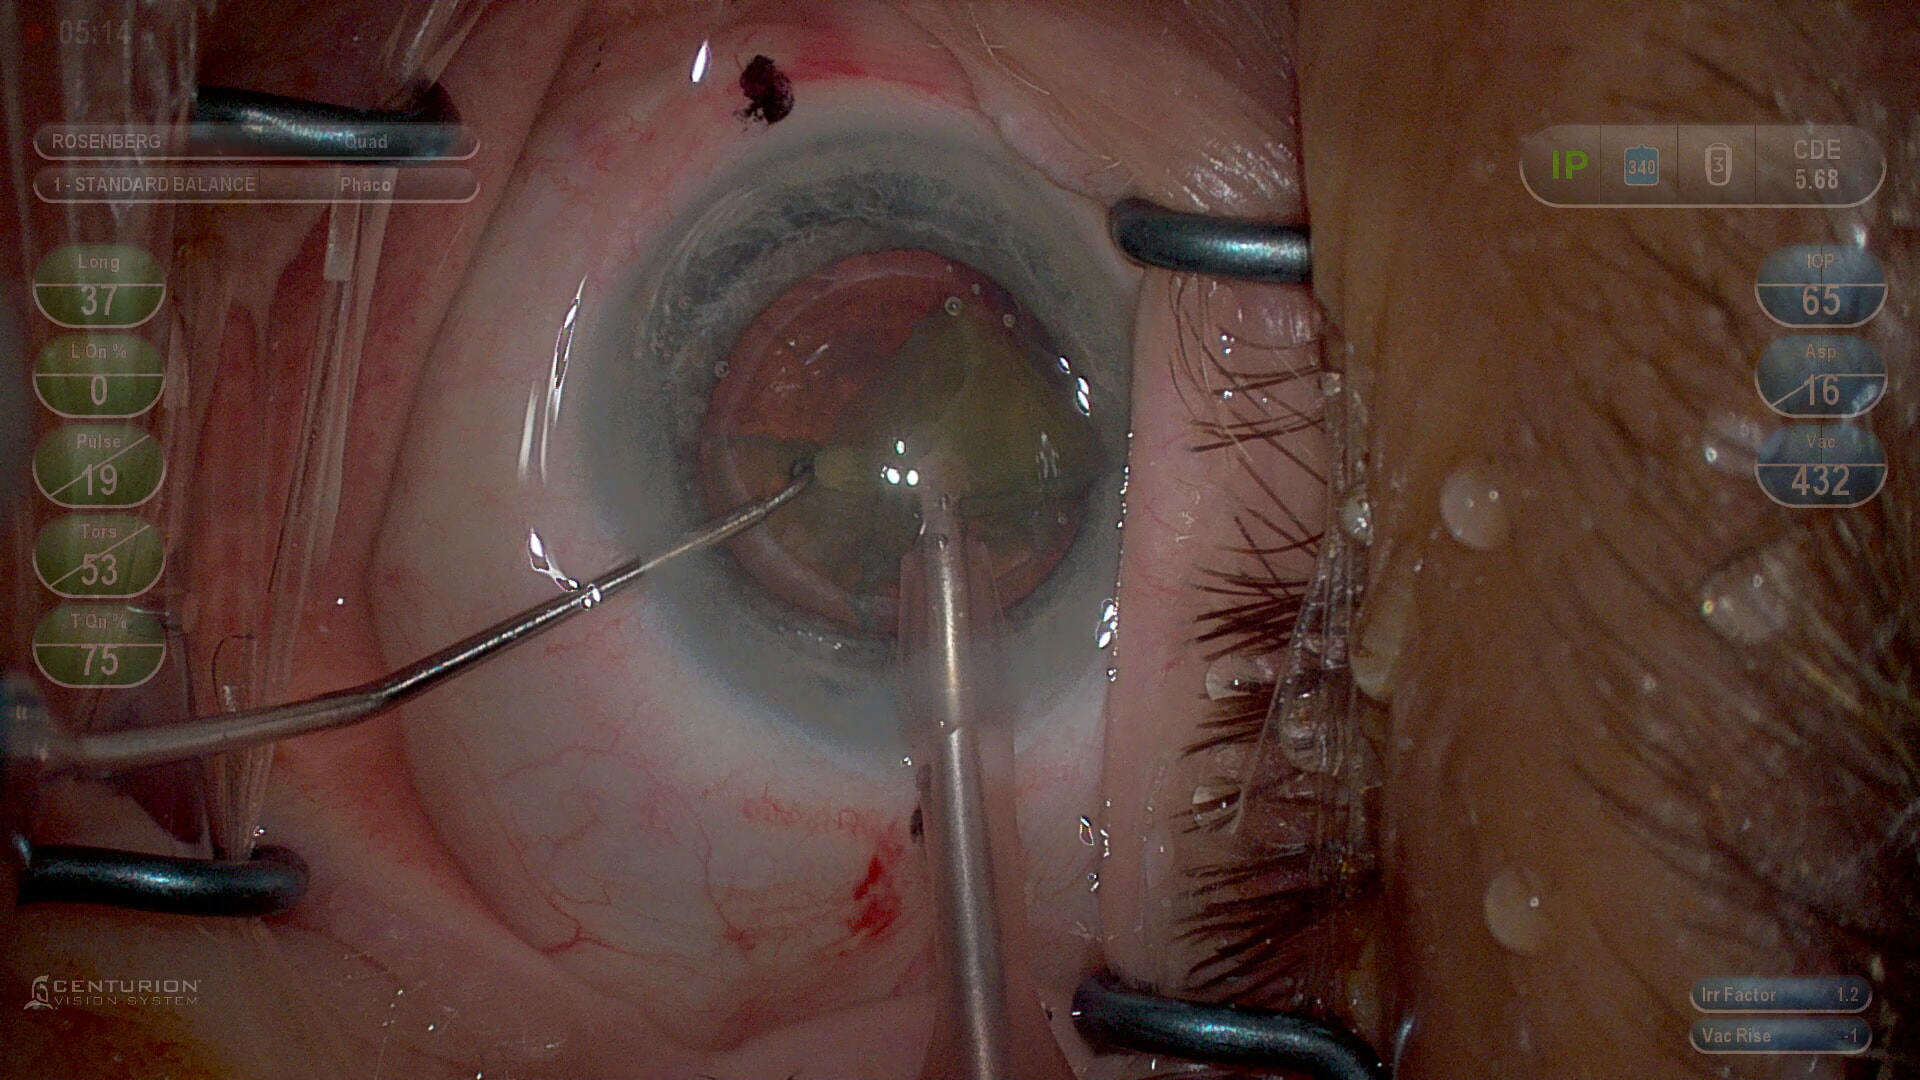iris: (620, 141, 1137, 736)
pupil: (698, 244, 1096, 639)
